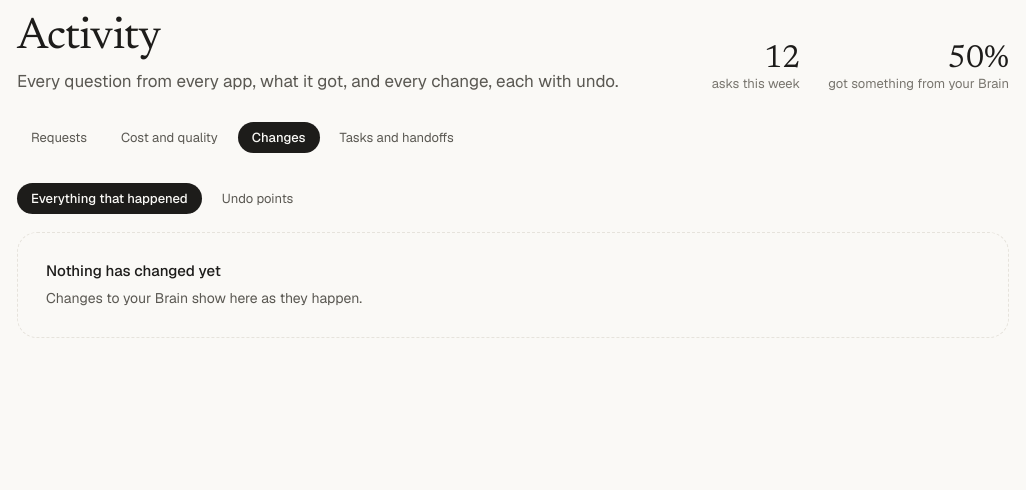
Test: Activity › undoes a point, and offers to undo the later ones together when the server names them
The image size is (1026, 490).
What coordinates should you click on to do the following:
click the tab "Undo points"
I would click on:
 (258, 199)
Its box is [208,183,307,214].
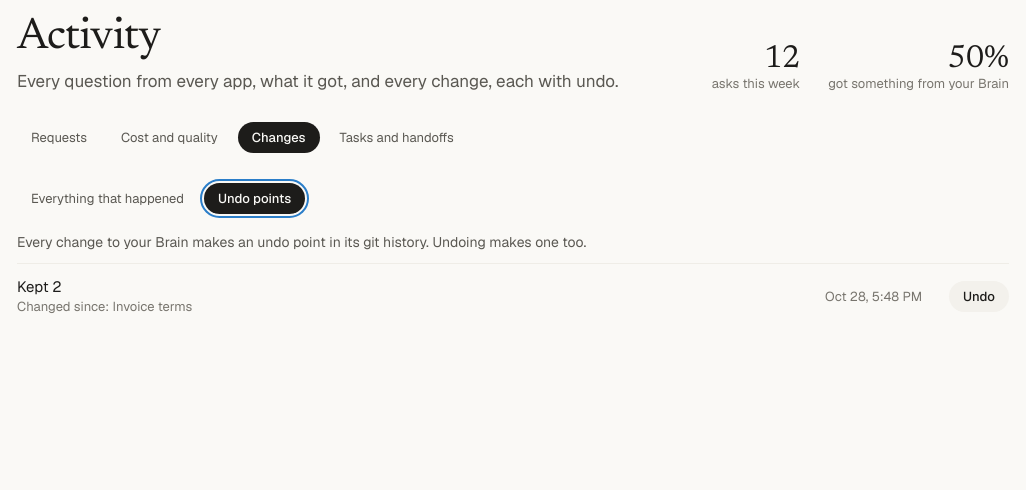
What coordinates should you click on to do the following:
click the button with aria-label "Undo Kept 2"
I would click on:
 (979, 296)
Its box is [949,281,1009,312].
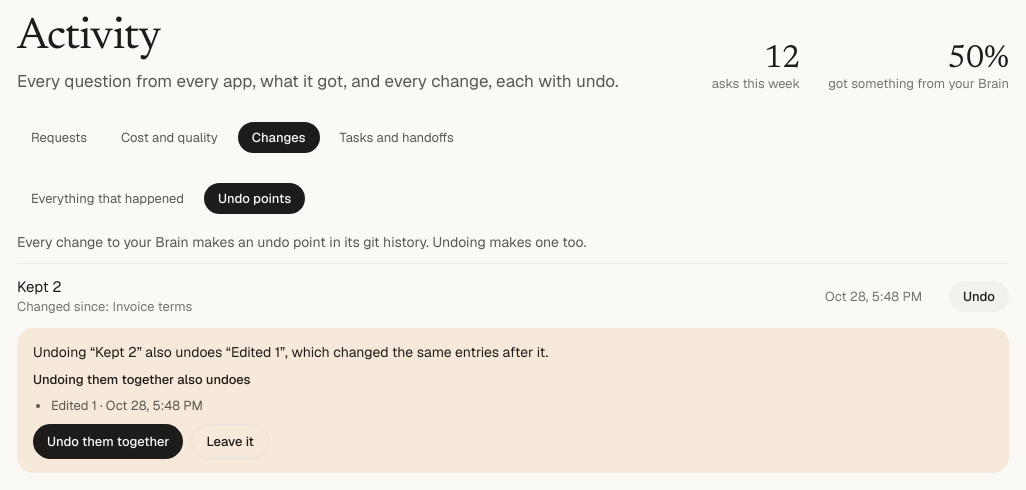
Now the text "also undoes “Edited 1”" is shown, box [33,343,548,361]
Now the list item "Edited 1 · Oct 28, 5:48 PM" is shown, box [51,396,203,416]
What coordinates should you click on to do the following:
click the button "Undo them together"
I would click on:
 (108, 441)
Its box is [33,424,184,459].
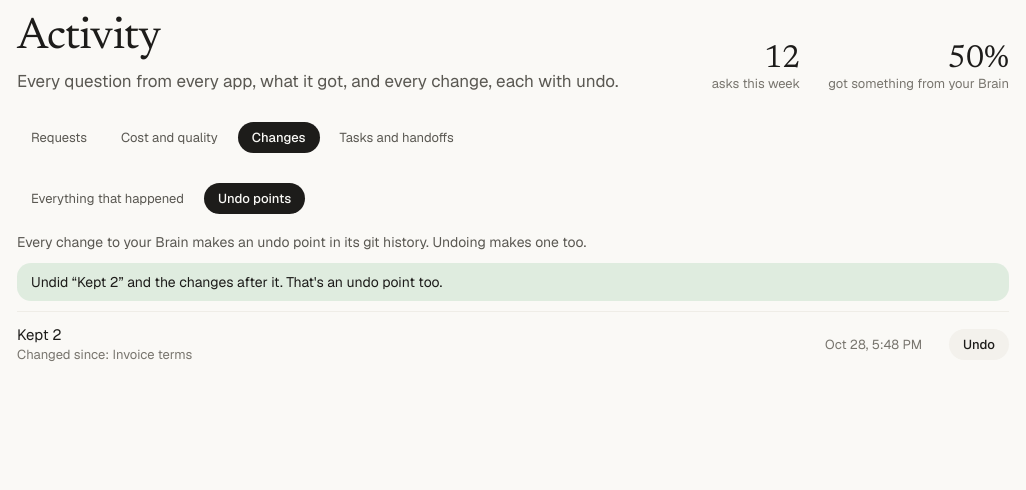
Now the text "Undid “Kept 2” and the changes after it. That's an undo point too." is shown, box [17,263,1009,301]
